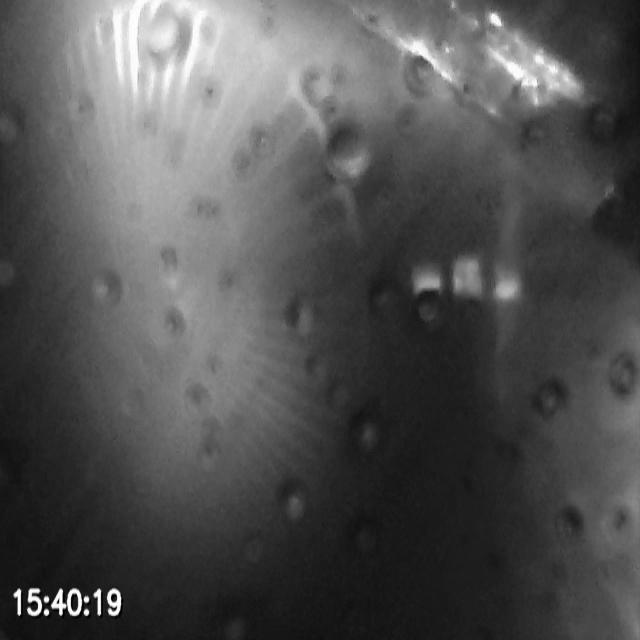white-dots: (408, 253, 521, 302)
